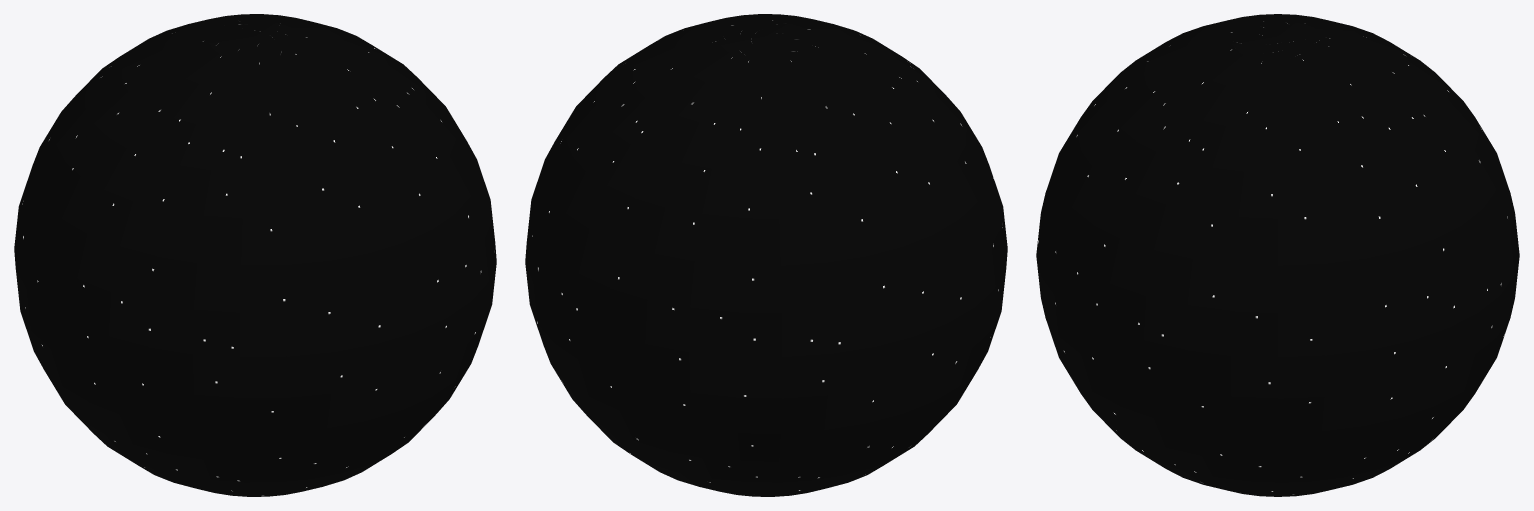
File: mouse-world.glb
3 renders of one model, left to right at view 1: azimuth 30°, elevation 25°; view 2: azimuth 150°, elevation 25°; view 3: azimuth 270°, elevation 25°, orthographic.
Parts seen in each view (by area): view 1: Sphere.001; view 2: Sphere.001; view 3: Sphere.001.
Part boxes in pixels (box(x1,y1,x2,y2)): Sphere.001: box(14, 14, 496, 496); Sphere.001: box(525, 14, 1007, 496); Sphere.001: box(1036, 14, 1519, 496).
Size of the model in its own units: 45.09 by 45.09 by 45.09.
3 materials, 2 textured.
